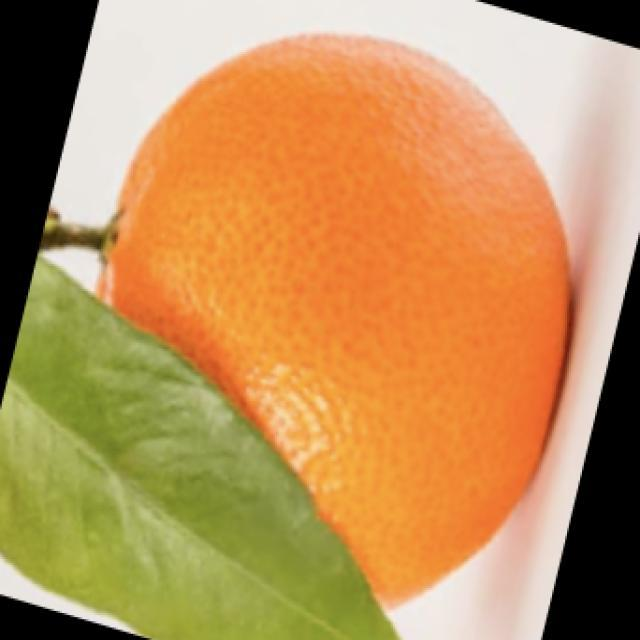Orange: (99, 29, 573, 612)
